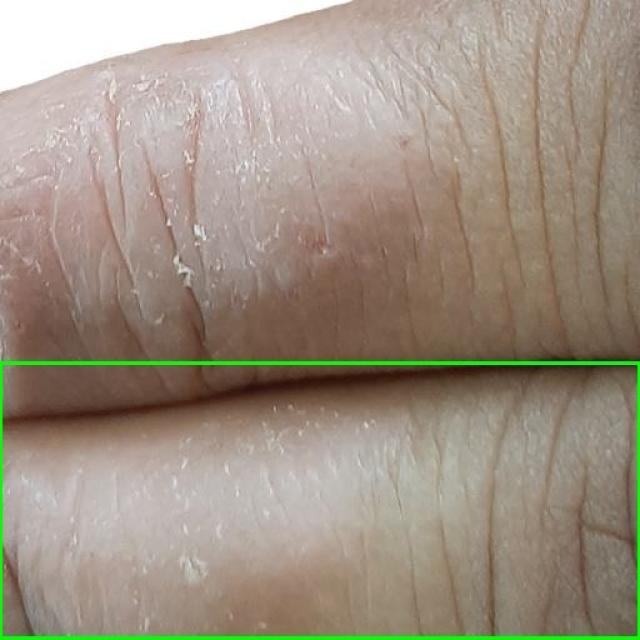Eczema: (0, 364, 639, 639)
